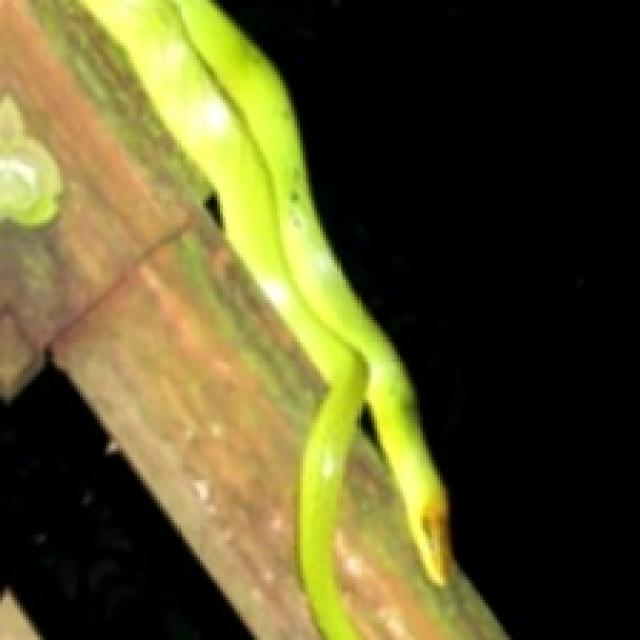red-tailed green ratsnake: (83, 0, 449, 637)
